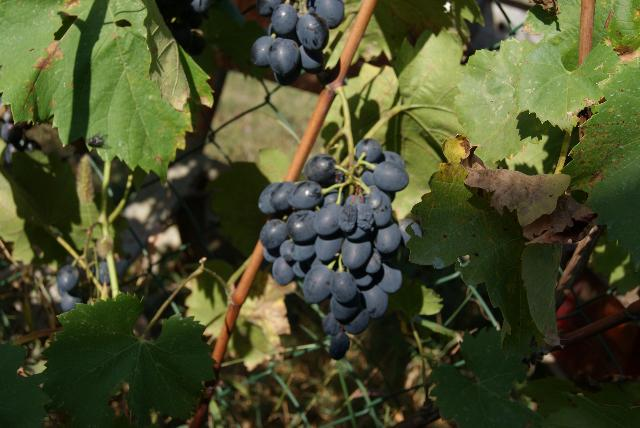grapes: (259, 139, 412, 360)
